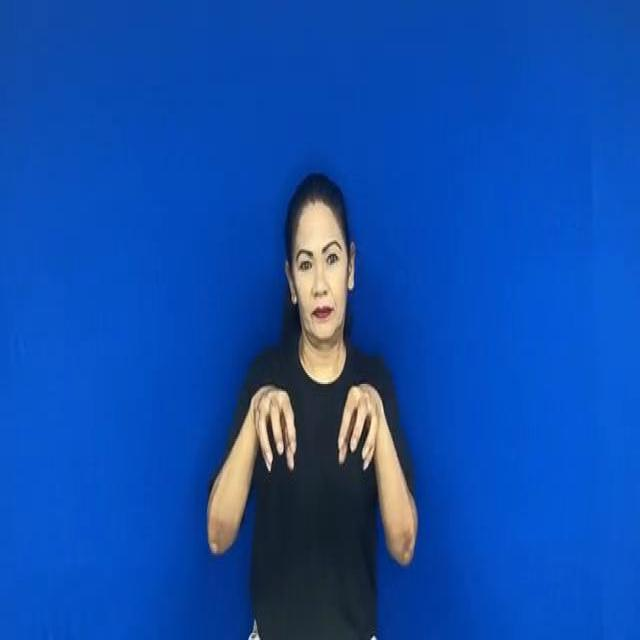egg: (235, 368, 398, 486)
